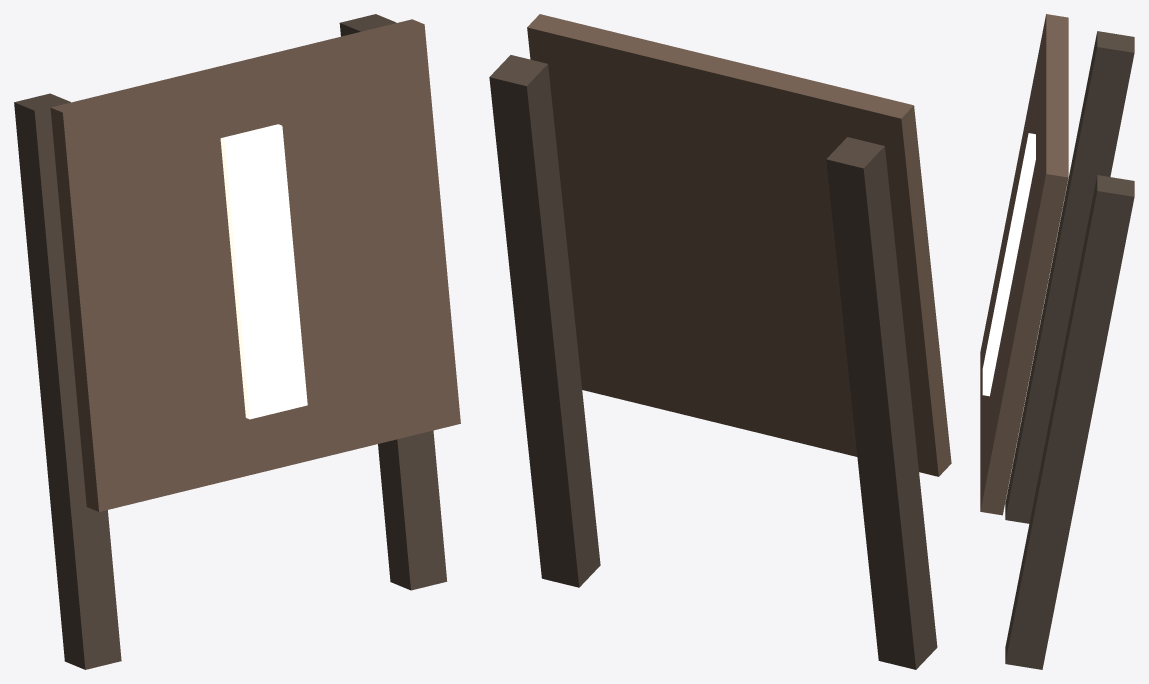
The model's file is prop_kanban.glb.
3 views of the same model, side by side, from view 1: azimuth 30°, elevation 25°; view 2: azimuth 150°, elevation 25°; view 3: azimuth 270°, elevation 25° (orthographic). The views are drawn at different scales.
Visible parts, largest first — view 1: kanban; view 2: kanban; view 3: kanban.
Part boxes in pixels (x1,y1,x2,y2): kanban: (14,14,460,669); kanban: (489,14,951,669); kanban: (980,14,1134,669).
Size of the model in its own units: 1 by 1.45 by 0.4072.
